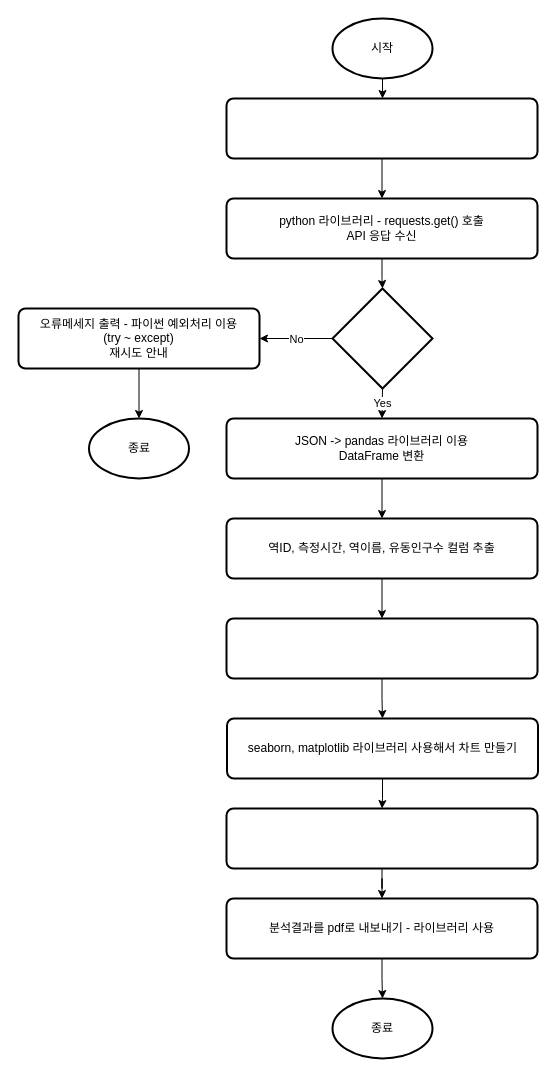
Image size: 556x1076. Some labels were removed from this diagram. Each missing label, with the box of its shape:
html 이용해서 대시보드 만들기 - streamlit 라이브러리 사용: (225, 807, 538, 869)
공공데이터 포털 API url준비 (혼잡도 + 인증키): (225, 97, 538, 159)
응답상태 200 OK: (331, 287, 433, 389)
전처리 작업 - 결측치 처리, 이상치 삭제: (225, 617, 538, 679)
